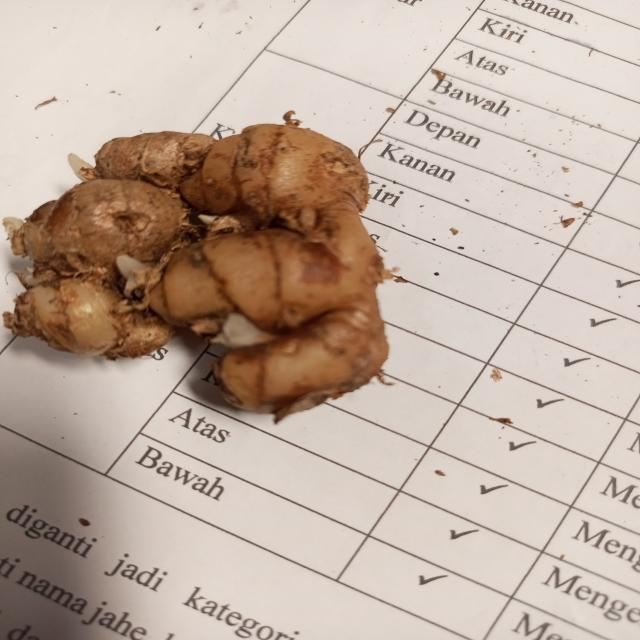ginger: (9, 122, 392, 398)
